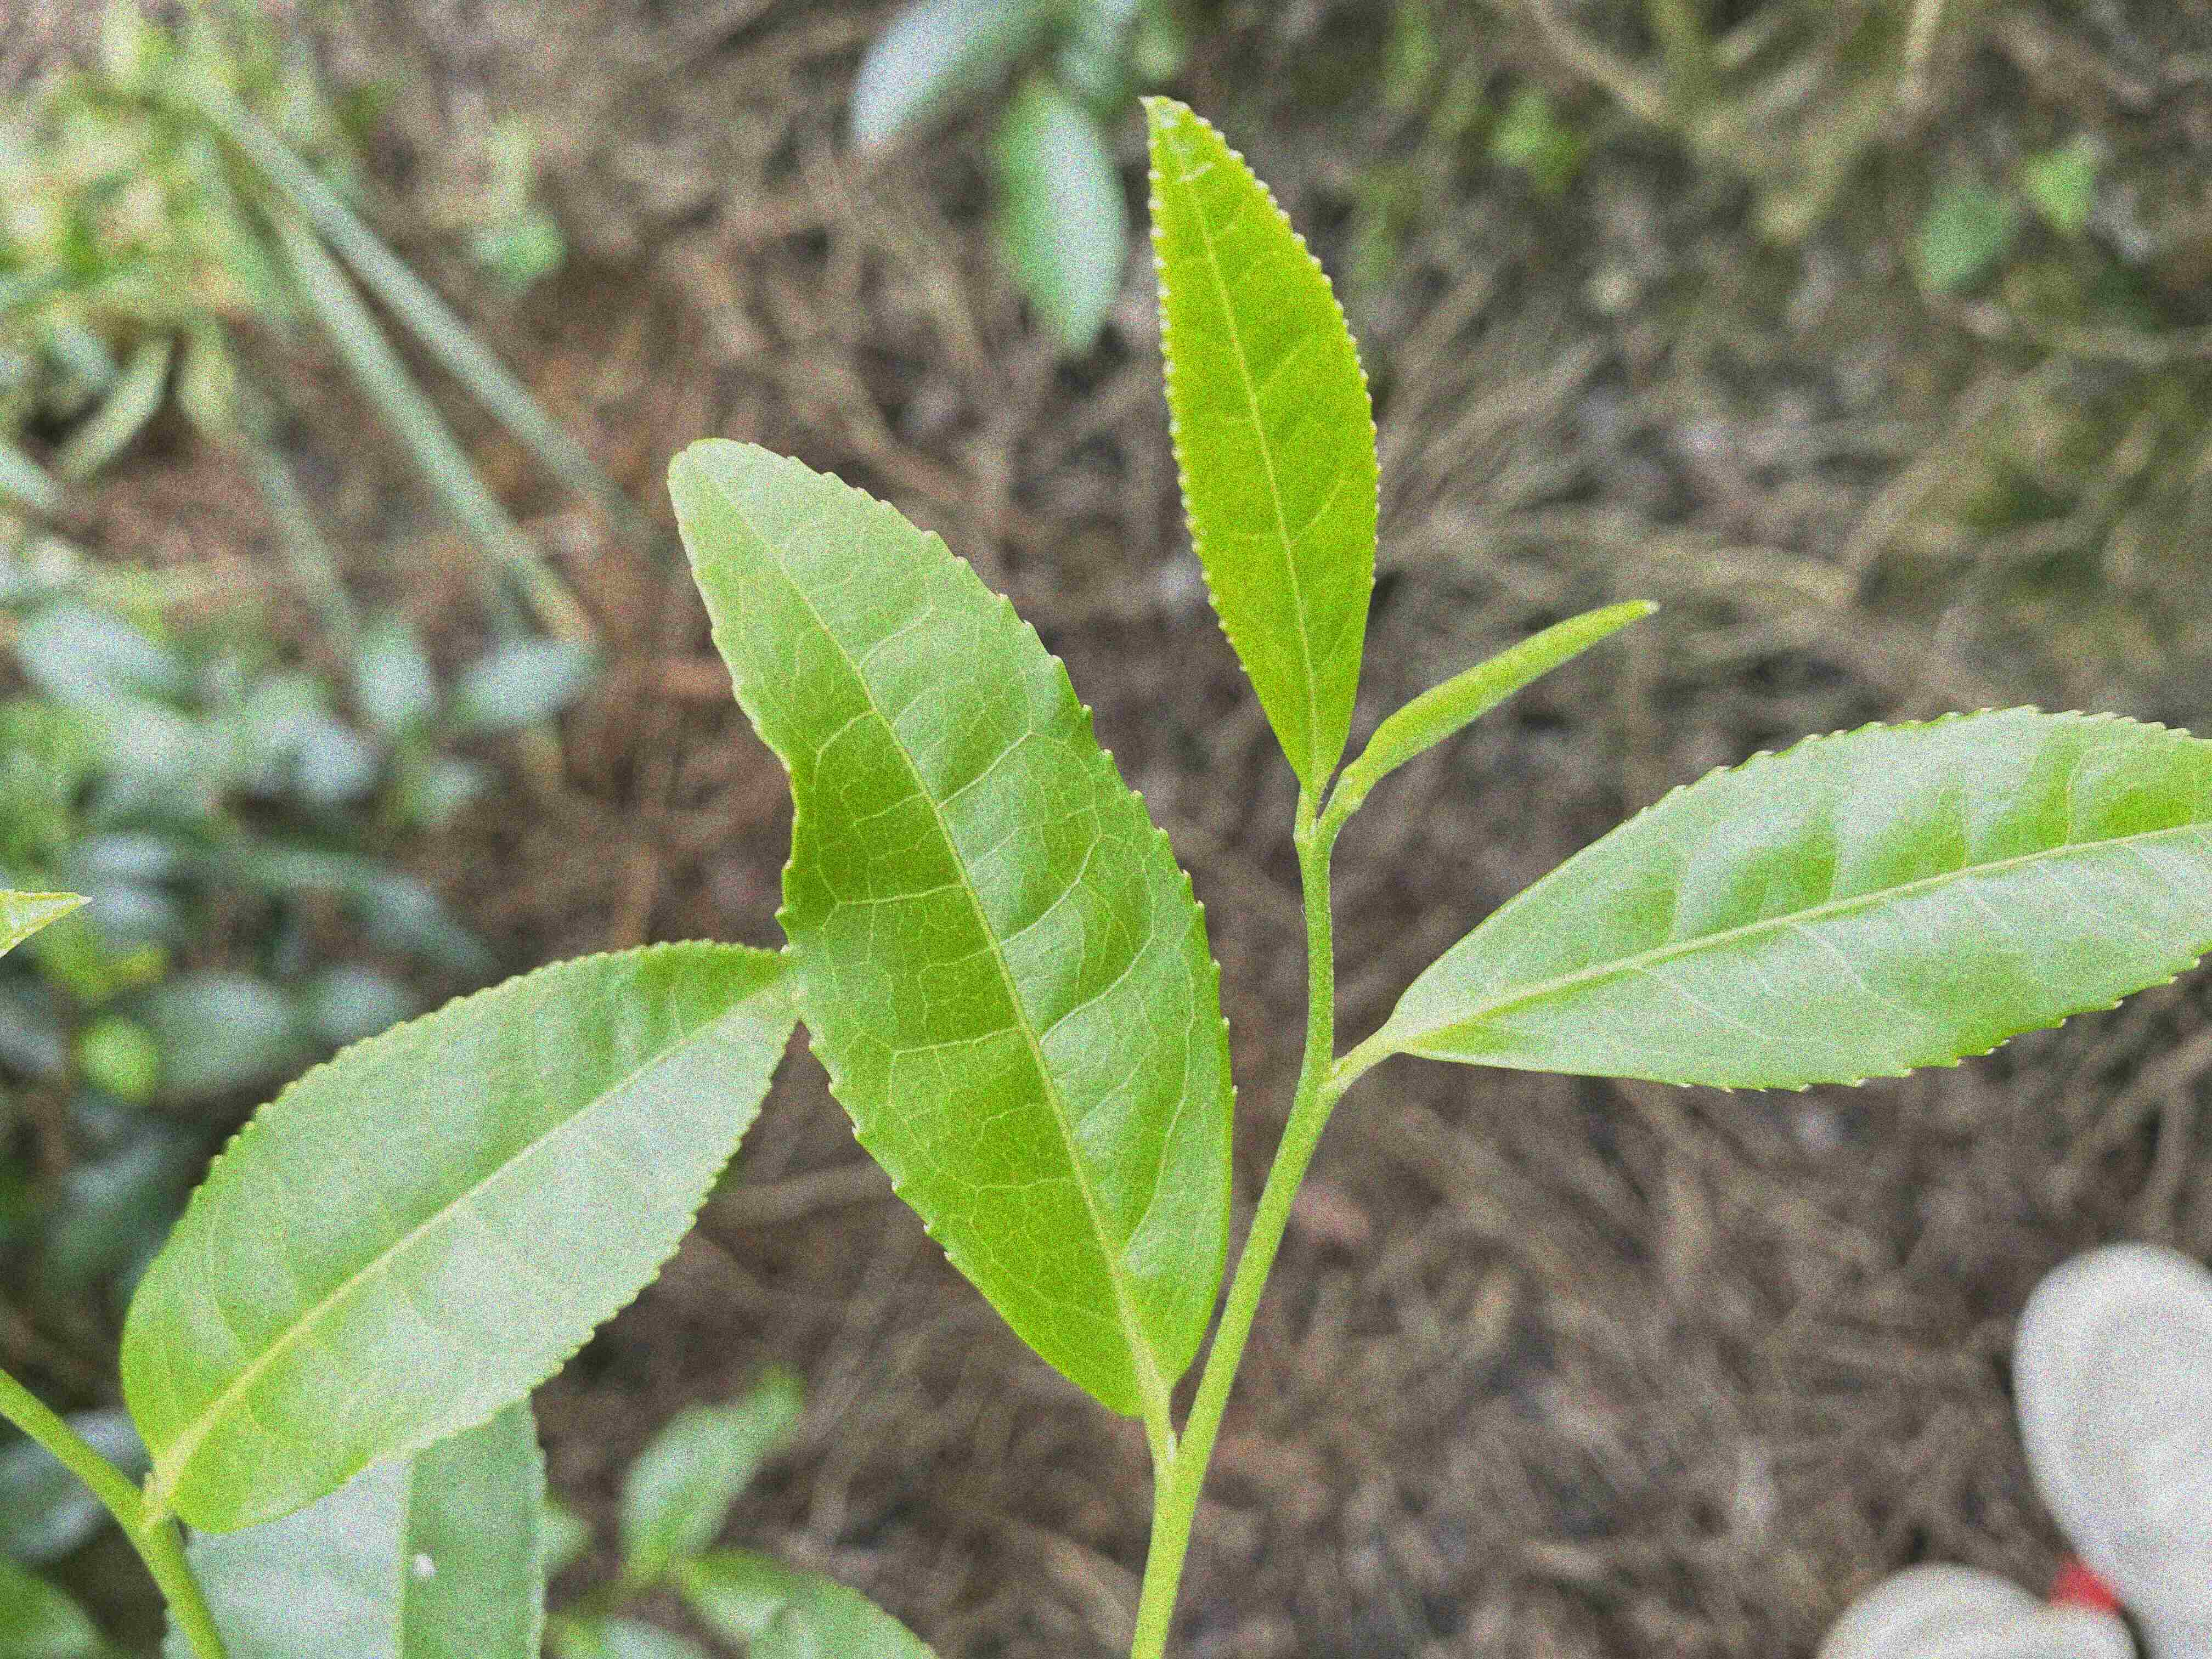healthy: (667, 439, 1240, 1424), (115, 934, 796, 1530), (1395, 701, 2207, 1091), (1141, 94, 1381, 796)
